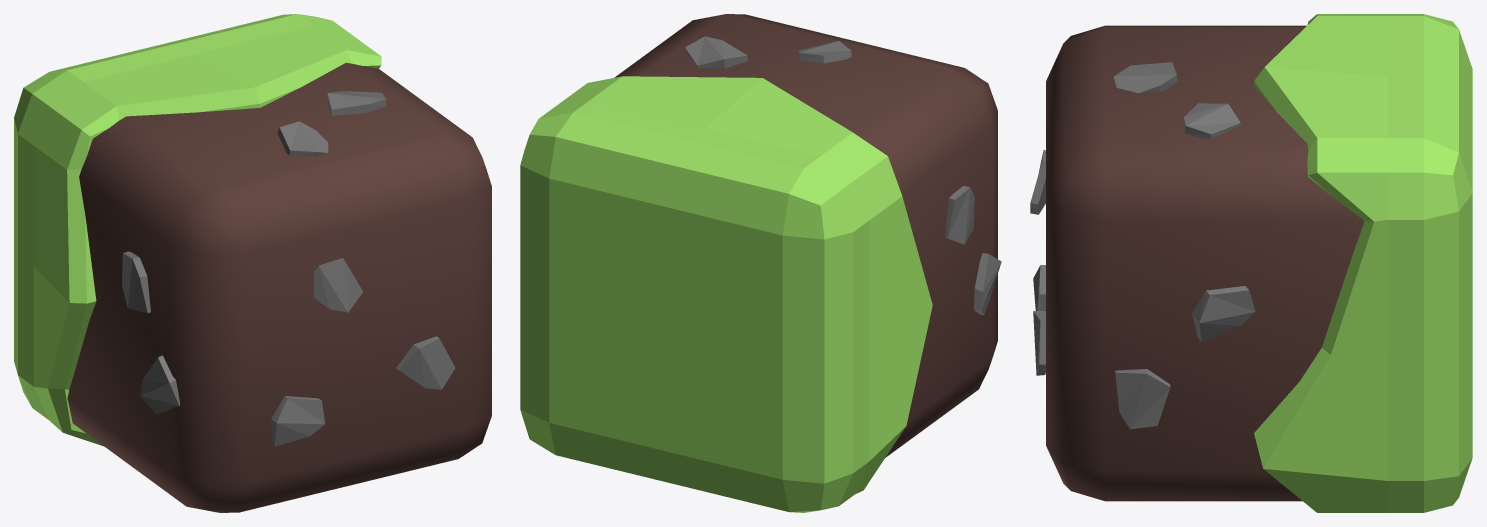
Rendered from SM_Grass.fbx.
The picture shows the model from 3 angles, left to right: view 1: azimuth 30°, elevation 25°; view 2: azimuth 150°, elevation 25°; view 3: azimuth 270°, elevation 25°; orthographic projection. The views are drawn at different scales.
Visible parts, largest first — view 1: Cube.002; view 2: Cube.002; view 3: Cube.002.
Part boxes in pixels (x1,y1,x2,y2): Cube.002: (14, 14, 491, 512); Cube.002: (520, 14, 1001, 512); Cube.002: (1030, 14, 1472, 512).
Bounding box in the file's own units: 232 × 218 × 226.
